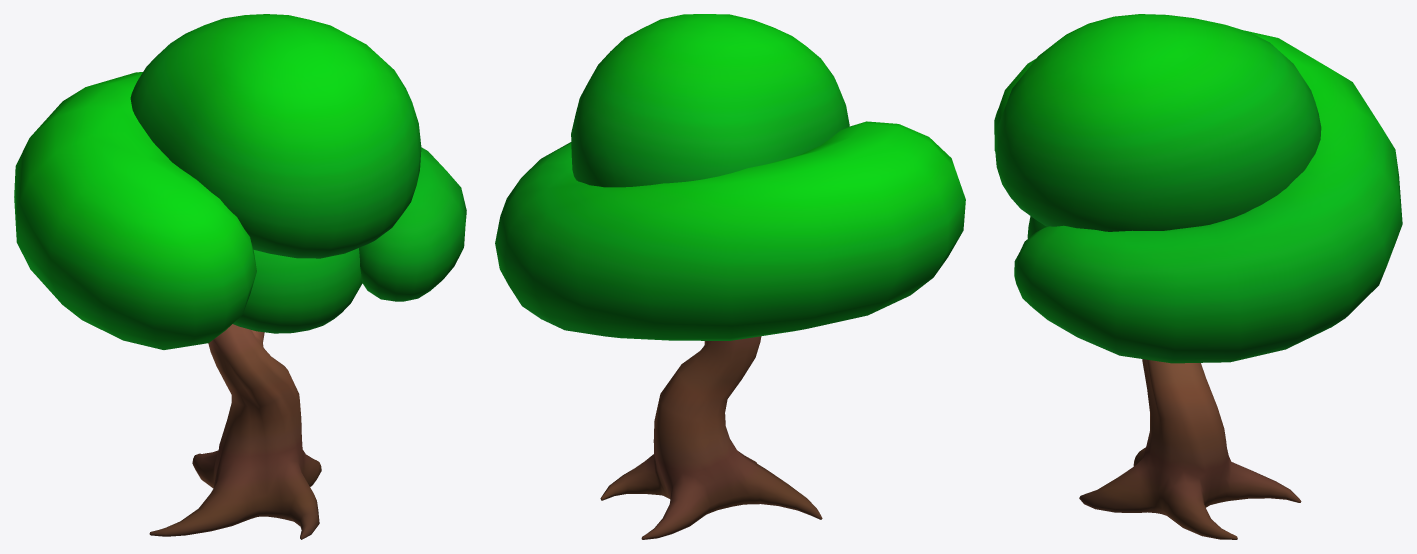
The model's file is Tree.fbx.
The picture shows the model from 3 angles, left to right: view 1: azimuth 30°, elevation 25°; view 2: azimuth 150°, elevation 25°; view 3: azimuth 270°, elevation 25°; orthographic projection. The views are drawn at different scales.
Visible parts, largest first — view 1: Tree; view 2: Tree; view 3: Tree.
Part boxes in pixels (x1=…): Tree: x1=14, y1=14, x2=466, y2=539; Tree: x1=495, y1=14, x2=965, y2=539; Tree: x1=994, y1=14, x2=1402, y2=539.
Size of the model in its own units: 16.03 by 17.62 by 13.55.
